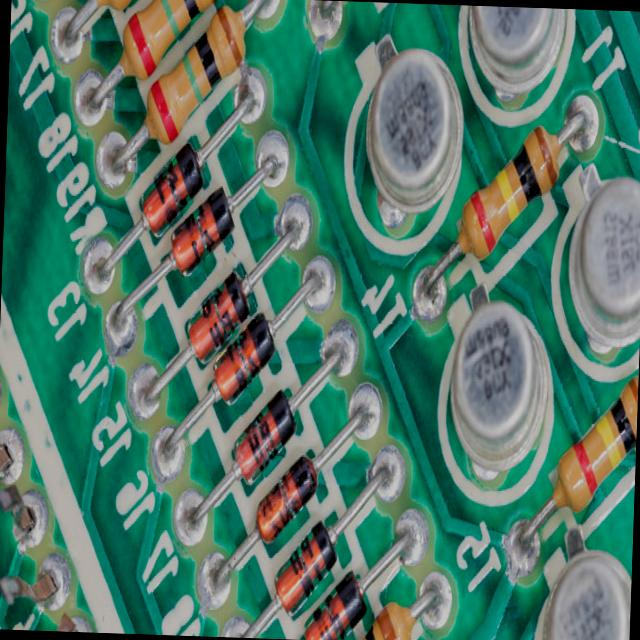resistor: (133, 4, 254, 147), (455, 124, 563, 277), (554, 367, 638, 523), (106, 0, 218, 104)
zener diode: (208, 369, 326, 502), (144, 168, 242, 294), (182, 300, 282, 422), (160, 256, 264, 372), (124, 127, 210, 250), (250, 434, 321, 556), (259, 516, 338, 620), (298, 567, 370, 640)
